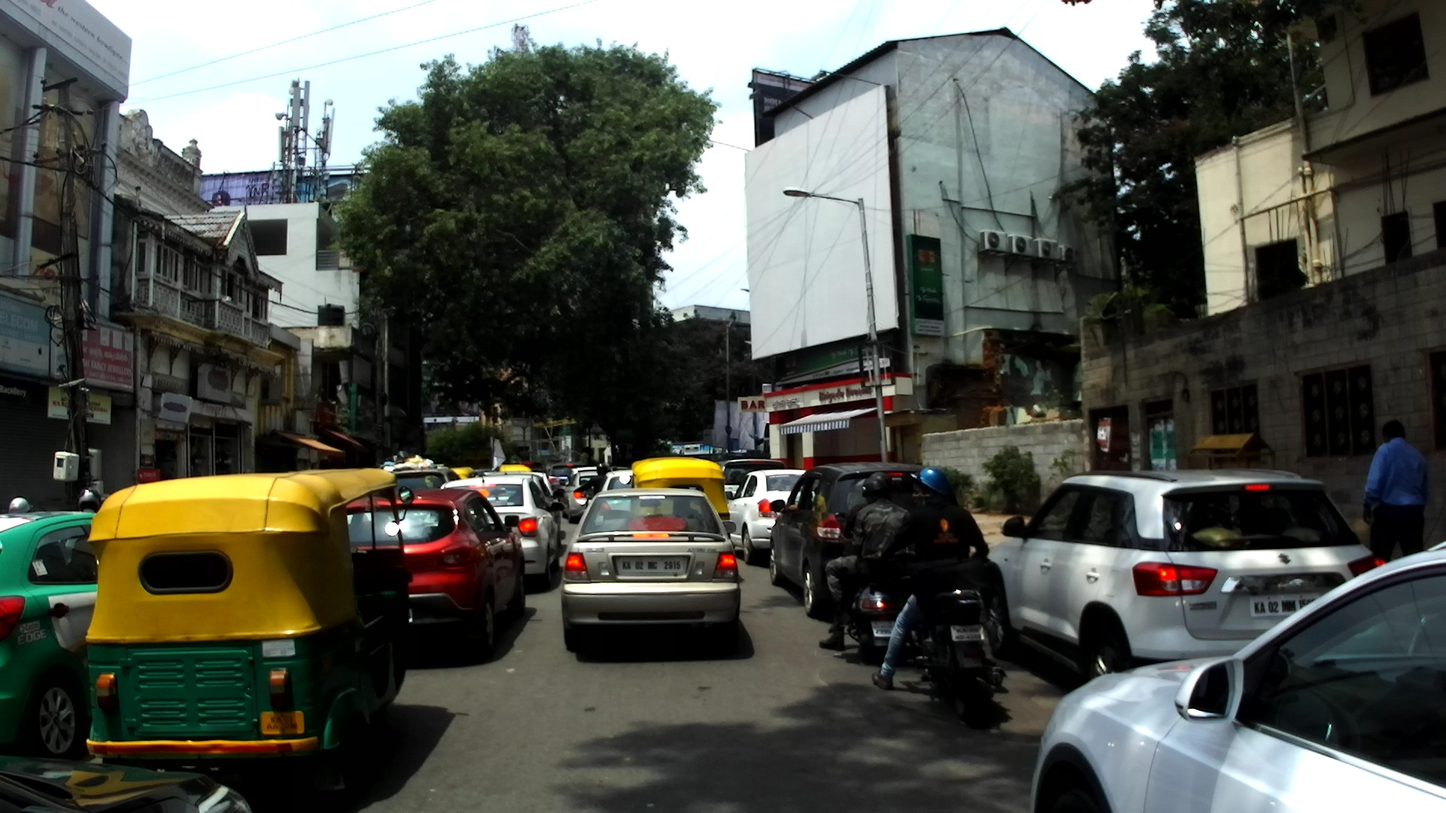autorickshaw: (87, 467, 413, 800), (630, 457, 731, 557), (441, 467, 478, 485), (496, 465, 532, 476)
car: (1030, 533, 1446, 813), (980, 468, 1391, 696), (561, 486, 742, 653), (1, 511, 118, 762), (769, 463, 959, 617), (373, 487, 528, 660), (436, 480, 563, 592), (1, 757, 252, 813), (725, 467, 816, 564), (484, 474, 563, 547), (715, 458, 789, 503), (562, 470, 612, 522), (481, 470, 560, 501), (385, 471, 464, 499), (549, 464, 592, 500), (566, 467, 609, 503), (597, 470, 636, 501), (609, 467, 631, 473)
motorcycle: (866, 553, 1006, 729), (836, 512, 912, 666), (575, 487, 596, 511)
person: (1362, 417, 1429, 565)
rider: (871, 467, 1002, 691), (820, 472, 903, 650), (824, 479, 911, 627), (574, 462, 610, 505), (75, 487, 101, 515), (8, 495, 32, 515)
traffic light: (581, 403, 593, 428), (755, 437, 764, 446), (581, 446, 591, 454)
truck: (460, 447, 492, 475)
vehicle fallback: (374, 450, 443, 481), (503, 461, 543, 477)
